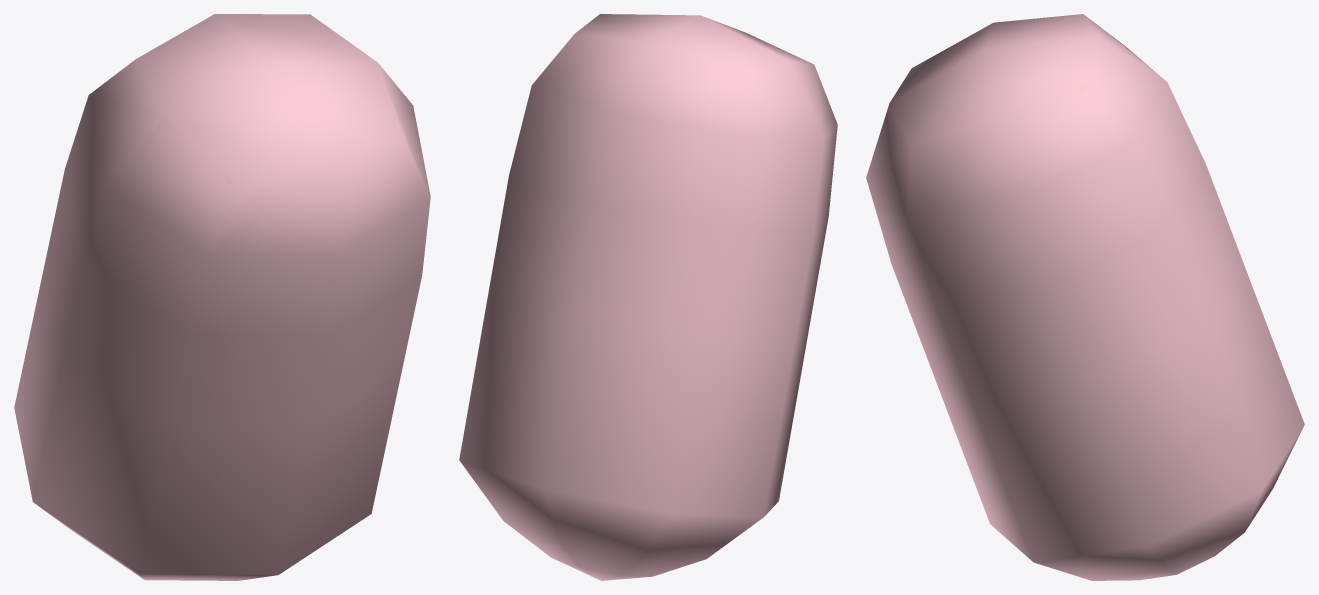
Rendered from UpperLeftArm.fbx.
The picture shows the model from 3 angles, left to right: view 1: azimuth 30°, elevation 25°; view 2: azimuth 150°, elevation 25°; view 3: azimuth 270°, elevation 25°; orthographic projection. The views are drawn at different scales.
Visible parts, largest first — view 1: UpperLeftArm; view 2: UpperLeftArm; view 3: UpperLeftArm.
Part boxes in pixels (x1,y1,x2,y2): UpperLeftArm: [14, 14, 430, 580]; UpperLeftArm: [459, 14, 837, 580]; UpperLeftArm: [866, 14, 1304, 580].
Size of the model in its own units: 102 by 171 by 129.
